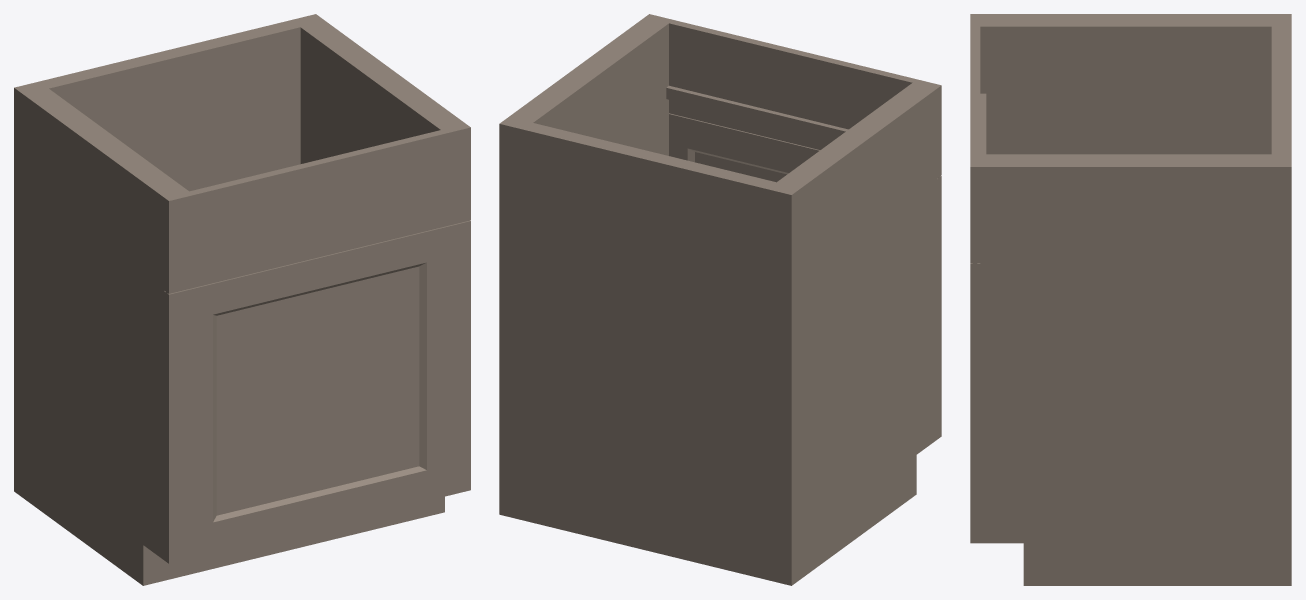
Rendered from Base-Cabinet-Wastebasket-24-Deep_std_001_W27in_2D.glb.
3 views of the same model, side by side, from view 1: azimuth 30°, elevation 25°; view 2: azimuth 150°, elevation 25°; view 3: azimuth 270°, elevation 25° (orthographic). The views are drawn at different scales.
Parts seen in each view (by area): view 1: Base-Cabinet-Wastebasket-24-Deep.std.001_W27in_2D; view 2: Base-Cabinet-Wastebasket-24-Deep.std.001_W27in_2D; view 3: Base-Cabinet-Wastebasket-24-Deep.std.001_W27in_2D.
Boxes of the visible parts, x1,y1,x2,y2 form: Base-Cabinet-Wastebasket-24-Deep.std.001_W27in_2D: (14, 14, 470, 585); Base-Cabinet-Wastebasket-24-Deep.std.001_W27in_2D: (499, 14, 941, 585); Base-Cabinet-Wastebasket-24-Deep.std.001_W27in_2D: (970, 14, 1291, 585).
Bounding box in the file's own units: 0.6858 × 0.8763 × 0.6096.
